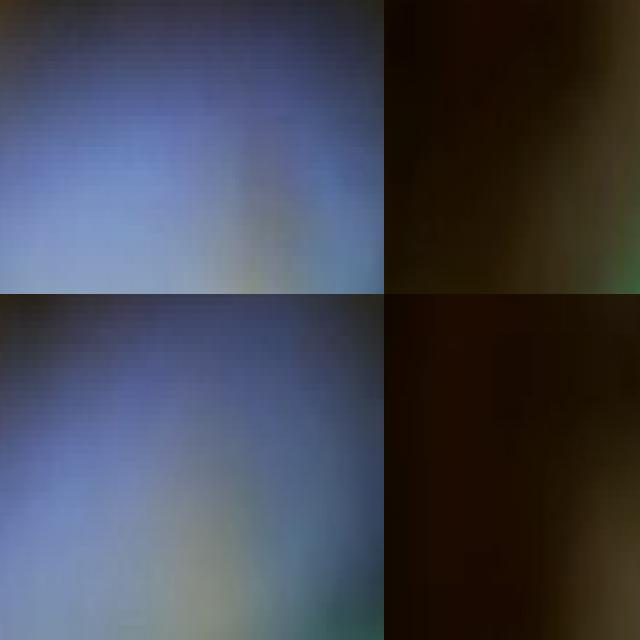fish: (0, 294, 384, 640), (0, 0, 384, 294)
